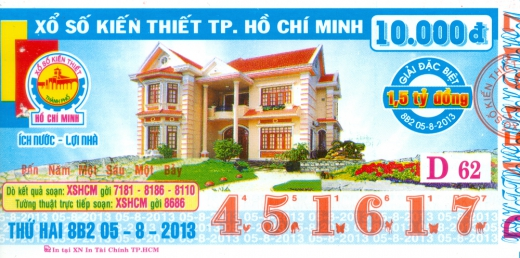serial_zone: (205, 191, 499, 244)
